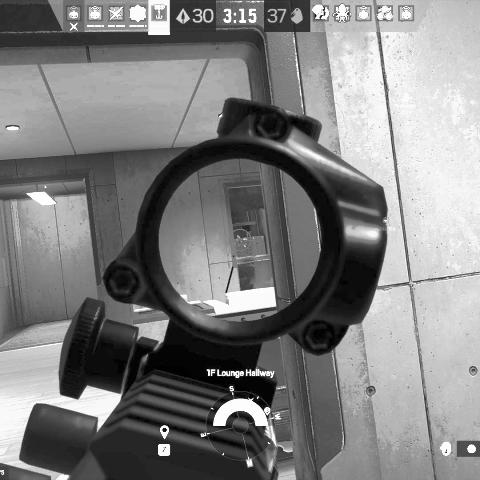Friend_label: (375, 216, 396, 232)
